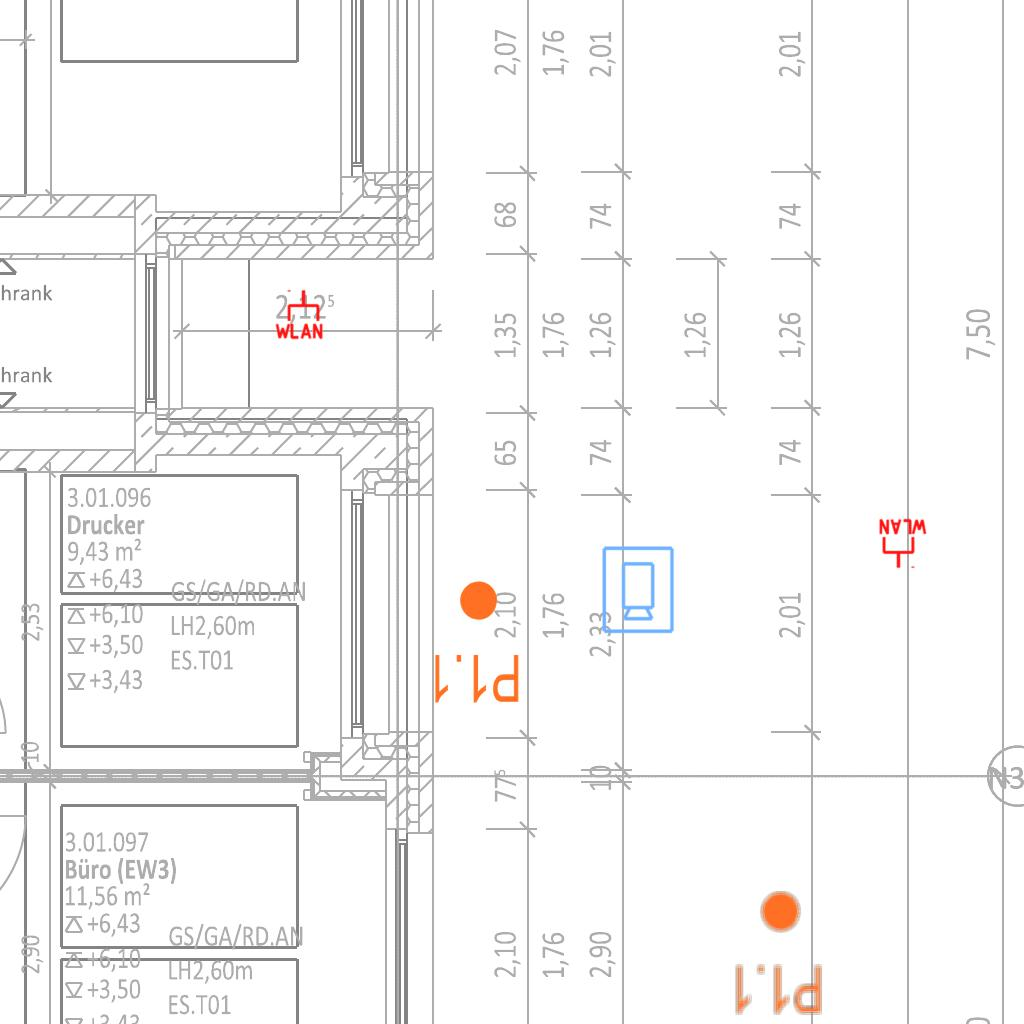Downlight_LED_Einbauleuchten_Flur: (731, 889, 824, 1017), (429, 578, 522, 706)
KFO_Kamera_mit_Festobjektiv: (599, 544, 676, 635)
WLAN: (877, 518, 929, 570), (273, 288, 325, 340)
